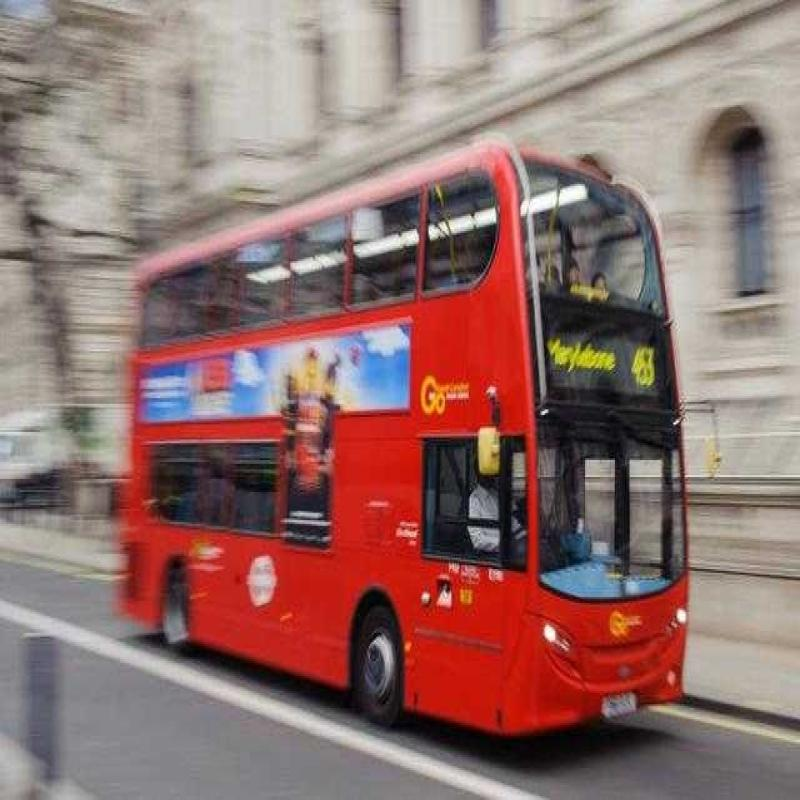bus: (116, 154, 697, 740)
